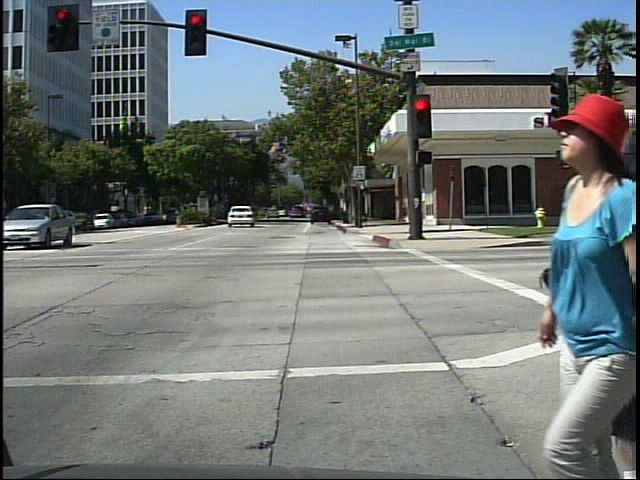person: (534, 89, 639, 480)
